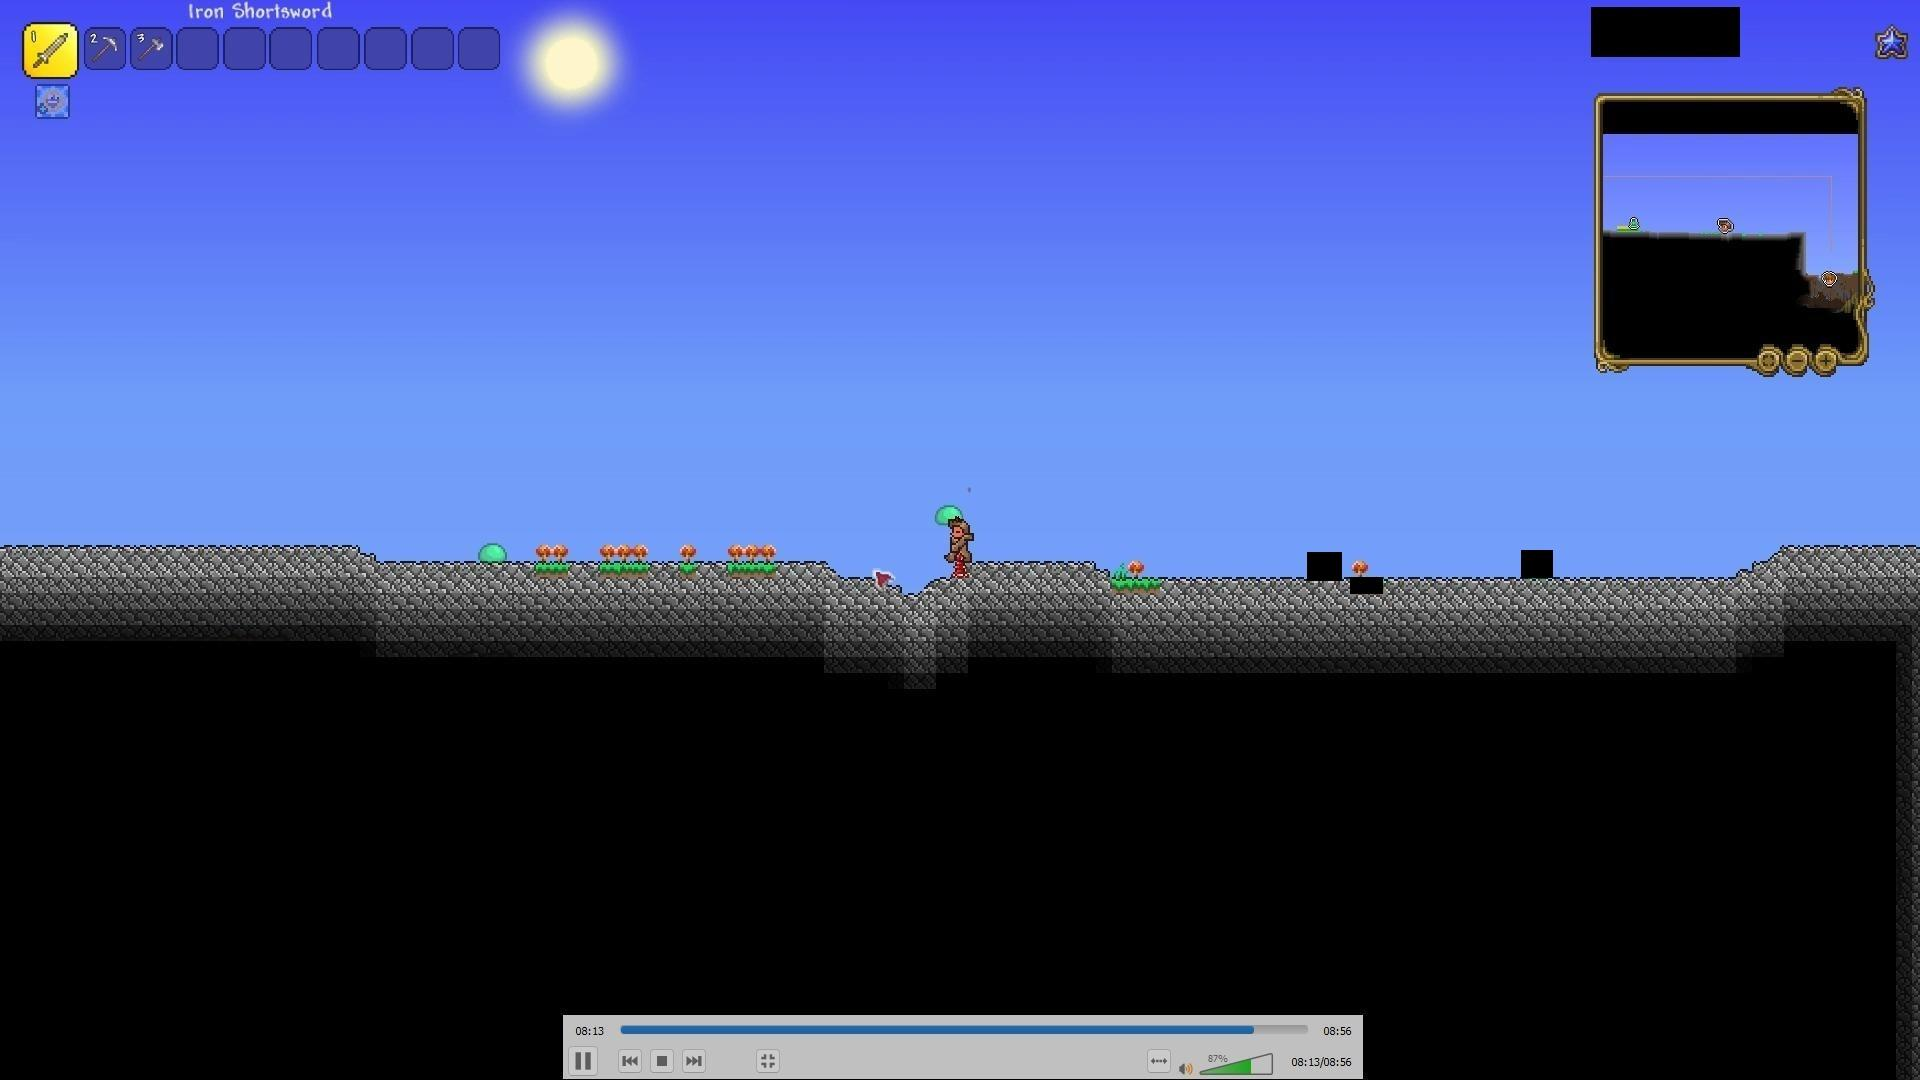dirt: (600, 560, 647, 578), (727, 562, 774, 579), (1112, 578, 1159, 595), (534, 560, 566, 578)
slime: (935, 498, 967, 527), (477, 537, 509, 563)
